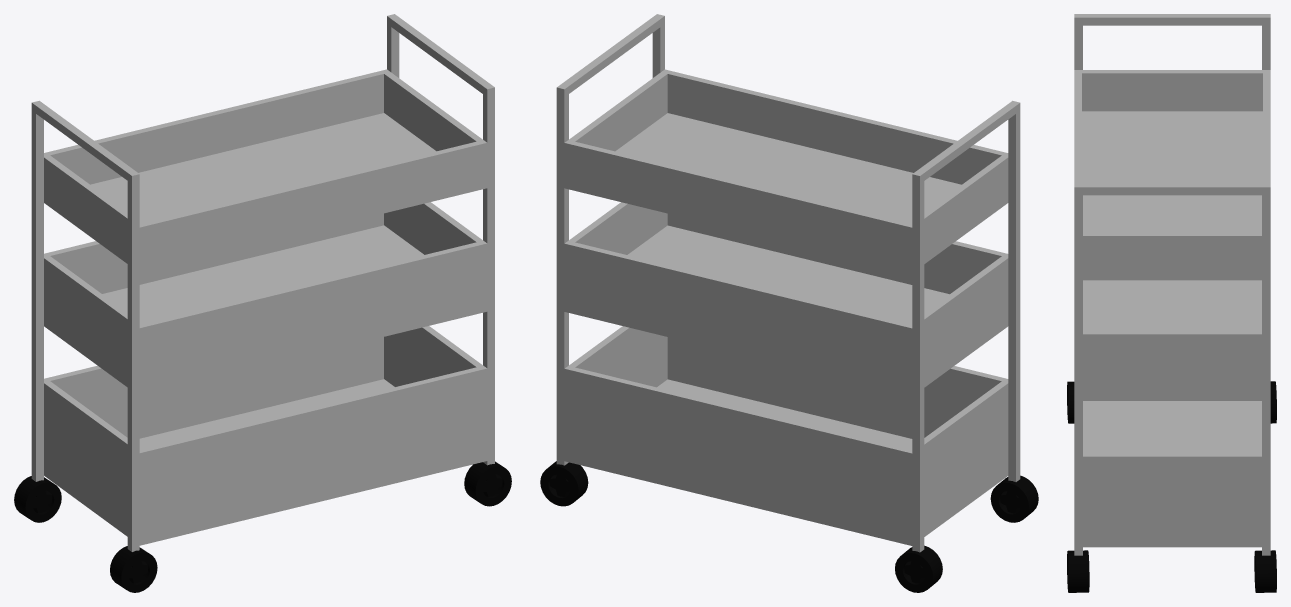
The model's file is Trolley_012.glb.
3 views of the same model, side by side, from view 1: azimuth 30°, elevation 25°; view 2: azimuth 150°, elevation 25°; view 3: azimuth 270°, elevation 25° (orthographic). The views are drawn at different scales.
Parts seen in each view (by area): view 1: Mesh_Trolley_012; view 2: Mesh_Trolley_012; view 3: Mesh_Trolley_012.
Boxes of the visible parts, x1=… form: Mesh_Trolley_012: x1=14, y1=14, x2=511, y2=592; Mesh_Trolley_012: x1=540, y1=14, x2=1038, y2=592; Mesh_Trolley_012: x1=1067, y1=14, x2=1276, y2=592.
Size of the model in its own units: 0.9037 by 0.9129 by 0.428.
1 material, 1 textured.
